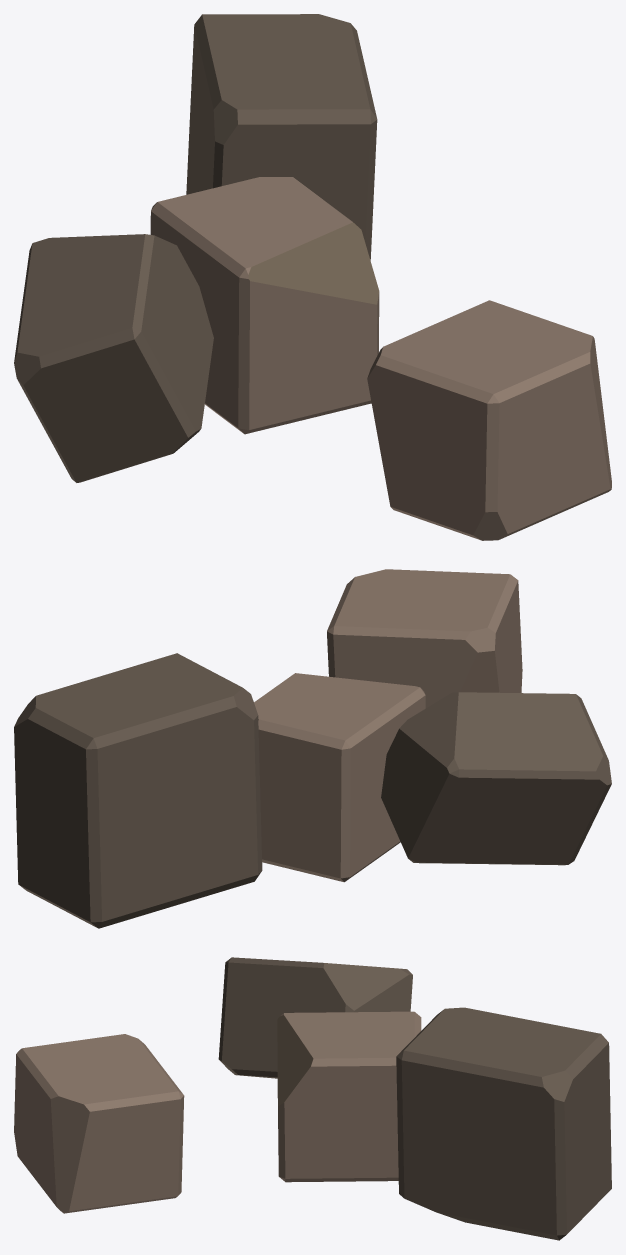
File: StonesLoose.fbx
The picture shows the model from 3 angles, top to bottom: view 1: azimuth 30°, elevation 25°; view 2: azimuth 150°, elevation 25°; view 3: azimuth 270°, elevation 25°; orthographic projection. The views are drawn at different scales.
Visible parts, largest first — view 1: Cube.005; view 2: Cube.005; view 3: Cube.005.
Part boxes in pixels (x1,y1,x2,y2): Cube.005: [14, 14, 611, 540]; Cube.005: [14, 569, 611, 928]; Cube.005: [14, 957, 611, 1240].
Size of the model in its own units: 297 by 125 by 402.
